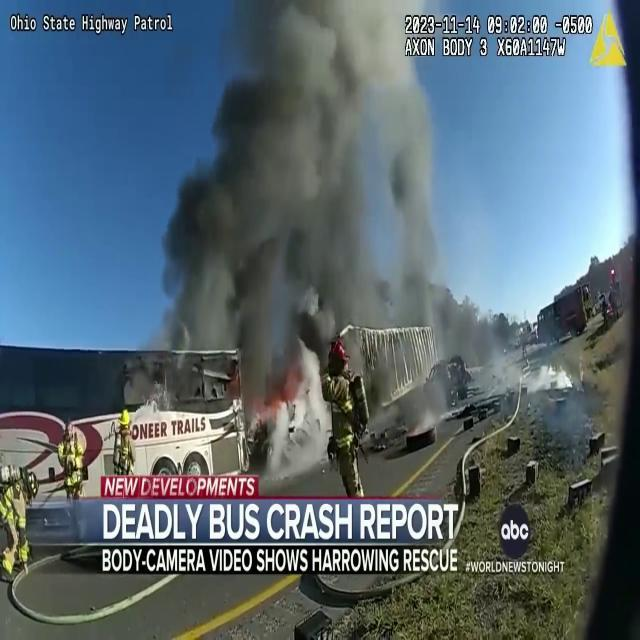Smoke: (152, 1, 446, 414)
